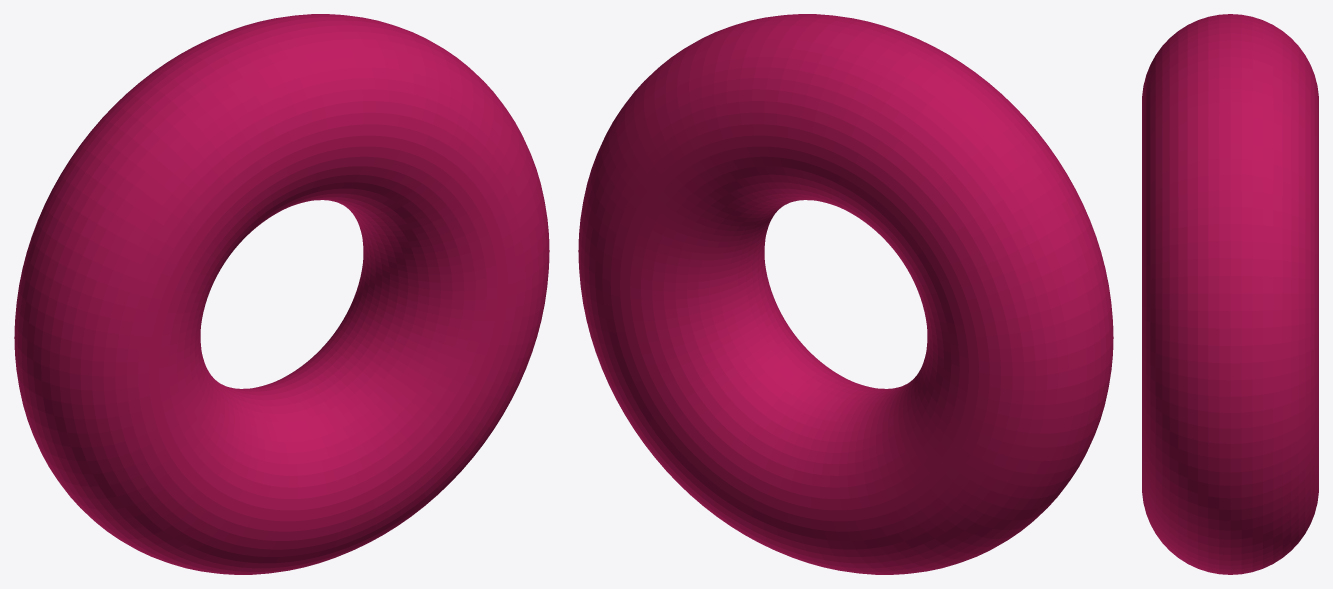
3 renders of one model, left to right at view 1: azimuth 30°, elevation 25°; view 2: azimuth 150°, elevation 25°; view 3: azimuth 270°, elevation 25°, orthographic. The views are drawn at different scales.
Visible parts, largest first — view 1: world; view 2: world; view 3: world.
Part boxes in pixels (bbox=[...]): world: bbox=[14, 14, 549, 574]; world: bbox=[578, 14, 1113, 574]; world: bbox=[1142, 14, 1318, 574].
Size of the model in its own units: 28.27 by 28.27 by 8.92.
